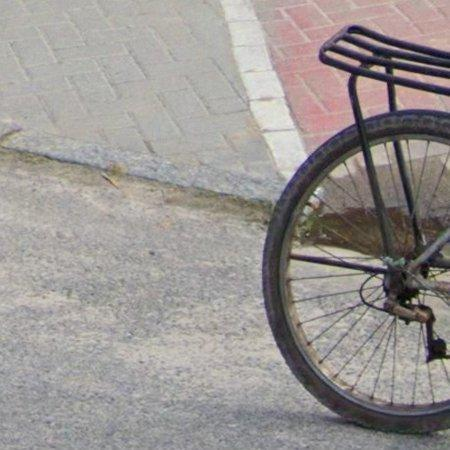bicycles: (264, 25, 450, 434)
